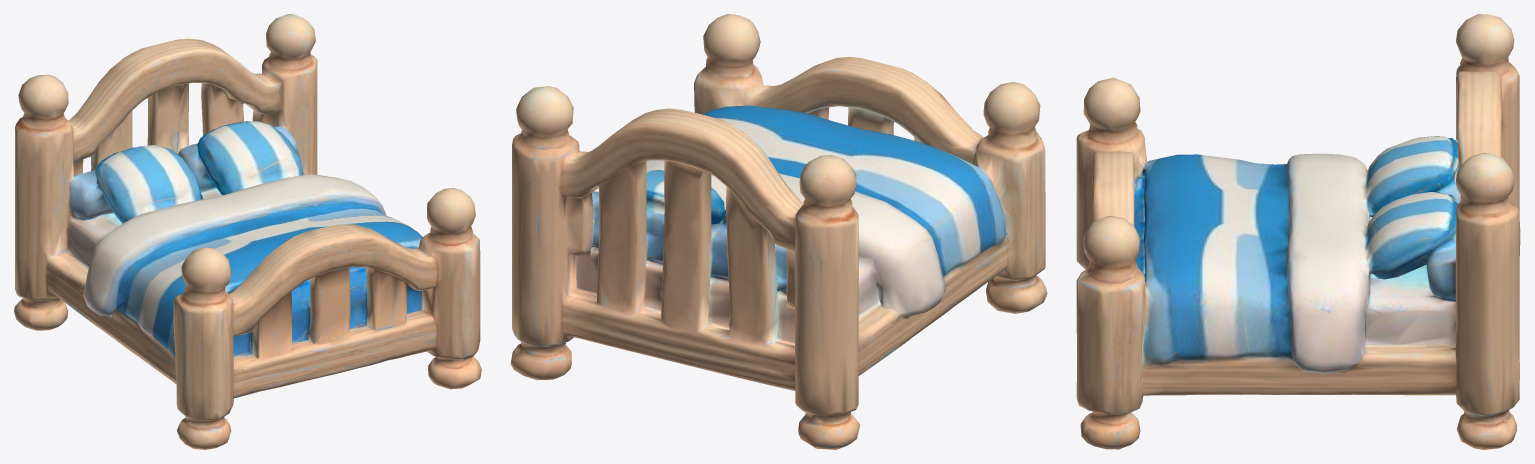
The model's file is Blue_bed.glb.
3 renders of one model, left to right at view 1: azimuth 30°, elevation 25°; view 2: azimuth 150°, elevation 25°; view 3: azimuth 270°, elevation 25°, orthographic. The views are drawn at different scales.
Visible parts, largest first — view 1: Mesh_0; view 2: Mesh_0; view 3: Mesh_0.
Part boxes in pixels (x1,y1,x2,y2): Mesh_0: [14, 14, 481, 449]; Mesh_0: [510, 14, 1047, 449]; Mesh_0: [1076, 14, 1520, 449].
Bounding box in the file's own units: 1.72 × 1.38 × 1.91.
1 material, 1 textured.
